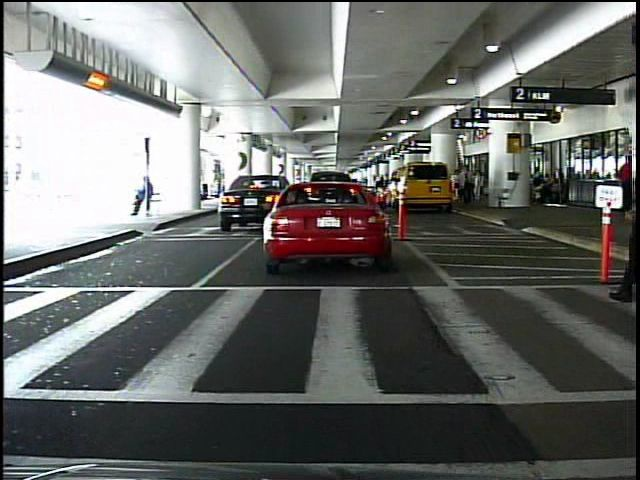person: (610, 145, 640, 304), (618, 155, 633, 215)
